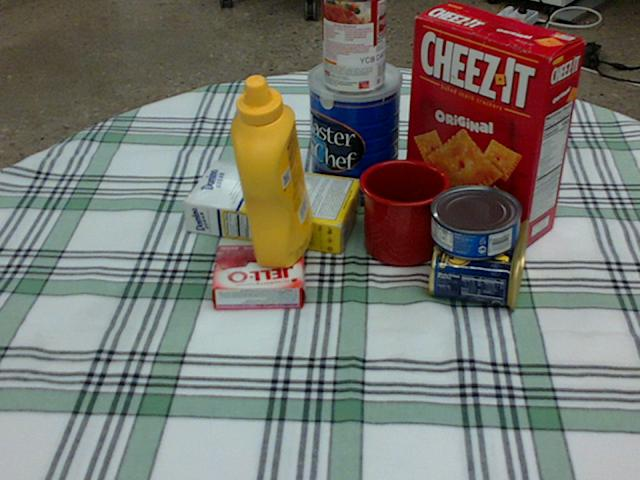cracker_box: (403, 1, 586, 246)
gelatin_box: (212, 245, 306, 309)
master_chef_can: (307, 57, 401, 208)
mug: (360, 158, 452, 266)
mustard_bottle: (230, 74, 311, 267)
potted_meat_can: (429, 208, 530, 305)
sugar_box: (181, 159, 361, 253)
tomato_soup_can: (322, 0, 387, 93)
tuna_fish_can: (430, 186, 521, 258)
